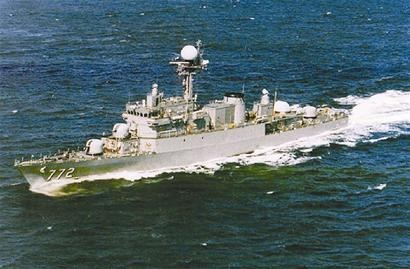warship: (11, 37, 350, 192)
